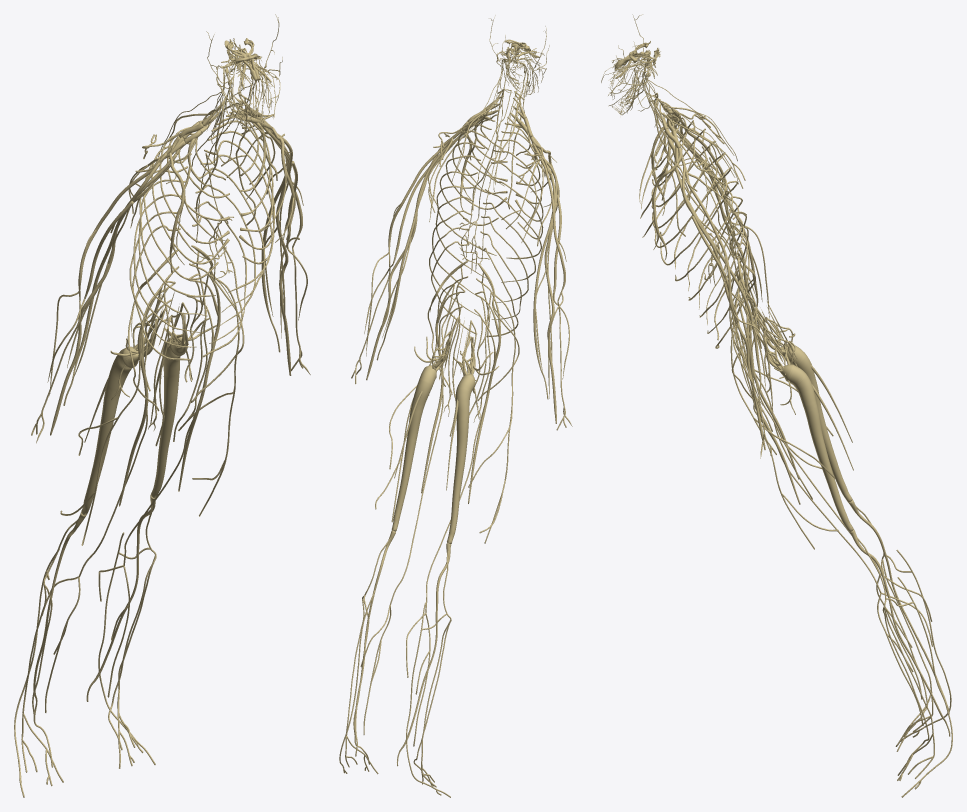
The model's file is atlas_nervous_mni152.peripheral.LOD1.glb.
The picture shows the model from 3 angles, left to right: view 1: azimuth 30°, elevation 25°; view 2: azimuth 150°, elevation 25°; view 3: azimuth 270°, elevation 25°; orthographic projection. The views are drawn at different scales.
Visible parts, largest first — view 1: ATLAS.NERVOUS.MNI152.PERIPHERAL.INTERCOSTAL_NERVES_RIGHT.R, ATLAS.NERVOUS.MNI152.PERIPHERAL.INTERCOSTAL_NERVES_LEFT.L, ATLAS.NERVOUS.MNI152.PERIPHERAL.SCIATIC_NERVE_RIGHT.R, ATLAS.NERVOUS.MNI152.PERIPHERAL.SCIATIC_NERVE_LEFT.L, ATLAS.NERVOUS.MNI152.PERIPHERAL.LUMBOSACRAL_PLEXUS_PROXIMAL_ (×2), ATLAS.NERVOUS.MNI152.PERIPHERAL.MEDIAL_AND_LATERAL_PECTORAL_ (×2), ATLAS.NERVOUS.MNI152.PERIPHERAL.LATERAL_FEMORAL_CUTANEOUS_NE (×2), ATLAS.NERVOUS.MNI152.PERIPHERAL.MEDIAN_NERVE_RIGHT.R, ATLAS.NERVOUS.MNI152.PERIPHERAL.FEMORAL_NERVE_LEFT.L, ATLAS.NERVOUS.MNI152.PERIPHERAL.SAPHENOUS_NERVE_LEFT.L, ATLAS.NERVOUS.MNI152.PERIPHERAL.FEMORAL_NERVE_RIGHT.R, ATLAS.NERVOUS.MNI152.PERIPHERAL.SAPHENOUS_NERVE_RIGHT.R (+13 smaller); view 2: ATLAS.NERVOUS.MNI152.PERIPHERAL.INTERCOSTAL_NERVES_LEFT.L, ATLAS.NERVOUS.MNI152.PERIPHERAL.INTERCOSTAL_NERVES_RIGHT.R, ATLAS.NERVOUS.MNI152.PERIPHERAL.SCIATIC_NERVE_RIGHT.R, ATLAS.NERVOUS.MNI152.PERIPHERAL.SCIATIC_NERVE_LEFT.L, ATLAS.NERVOUS.MNI152.PERIPHERAL.LUMBOSACRAL_PLEXUS_PROXIMAL_ (×2), ATLAS.NERVOUS.MNI152.PERIPHERAL.LATERAL_FEMORAL_CUTANEOUS_NE (×2), ATLAS.NERVOUS.MNI152.PERIPHERAL.SAPHENOUS_NERVE_LEFT.L, ATLAS.NERVOUS.MNI152.PERIPHERAL.FEMORAL_NERVE_RIGHT.R, ATLAS.NERVOUS.MNI152.PERIPHERAL.SAPHENOUS_NERVE_RIGHT.R, ATLAS.NERVOUS.MNI152.PERIPHERAL.MEDIAN_NERVE_RIGHT.R, ATLAS.NERVOUS.MNI152.PERIPHERAL.FEMORAL_NERVE_LEFT.L, ATLAS.NERVOUS.MNI152.PERIPHERAL.ULNAR_NERVE_RIGHT.R (+9 smaller); view 3: ATLAS.NERVOUS.MNI152.PERIPHERAL.SCIATIC_NERVE_LEFT.L, ATLAS.NERVOUS.MNI152.PERIPHERAL.INTERCOSTAL_NERVES_LEFT.L, ATLAS.NERVOUS.MNI152.PERIPHERAL.INTERCOSTAL_NERVES_RIGHT.R, ATLAS.NERVOUS.MNI152.PERIPHERAL.LUMBOSACRAL_PLEXUS_PROXIMAL_ (×2), ATLAS.NERVOUS.MNI152.PERIPHERAL.SCIATIC_NERVE_RIGHT.R, ATLAS.NERVOUS.MNI152.PERIPHERAL.SAPHENOUS_NERVE_RIGHT.R, ATLAS.NERVOUS.MNI152.PERIPHERAL.LATERAL_FEMORAL_CUTANEOUS_NE, ATLAS.NERVOUS.MNI152.PERIPHERAL.SAPHENOUS_NERVE_LEFT.L, ATLAS.NERVOUS.MNI152.PERIPHERAL.MEDIAN_NERVE_LEFT.L, ATLAS.NERVOUS.MNI152.PERIPHERAL.ULNAR_NERVE_LEFT.L, ATLAS.NERVOUS.MNI152.PERIPHERAL.TIBIAL_NERVE_LEFT.L, ATLAS.NERVOUS.MNI152.PERIPHERAL.FEMORAL_NERVE_LEFT.L (+1 smaller).
Boxes of the visible parts, <box> form: ATLAS.NERVOUS.MNI152.PERIPHERAL.INTERCOSTAL_NERVES_RIGHT.R: <box>129,123,229,360</box>; ATLAS.NERVOUS.MNI152.PERIPHERAL.INTERCOSTAL_NERVES_LEFT.L: <box>192,114,274,357</box>; ATLAS.NERVOUS.MNI152.PERIPHERAL.SCIATIC_NERVE_RIGHT.R: <box>81,320,156,515</box>; ATLAS.NERVOUS.MNI152.PERIPHERAL.SCIATIC_NERVE_LEFT.L: <box>151,314,188,498</box>; ATLAS.NERVOUS.MNI152.PERIPHERAL.LUMBOSACRAL_PLEXUS_PROXIMAL_ (×2): <box>111,245,244,411</box>; ATLAS.NERVOUS.MNI152.PERIPHERAL.MEDIAL_AND_LATERAL_PECTORAL_ (×2): <box>166,122,295,272</box>; ATLAS.NERVOUS.MNI152.PERIPHERAL.LATERAL_FEMORAL_CUTANEOUS_NE (×2): <box>60,274,239,545</box>; ATLAS.NERVOUS.MNI152.PERIPHERAL.MEDIAN_NERVE_RIGHT.R: <box>50,153,166,435</box>; ATLAS.NERVOUS.MNI152.PERIPHERAL.FEMORAL_NERVE_LEFT.L: <box>178,263,220,491</box>; ATLAS.NERVOUS.MNI152.PERIPHERAL.SAPHENOUS_NERVE_LEFT.L: <box>98,395,201,697</box>; ATLAS.NERVOUS.MNI152.PERIPHERAL.FEMORAL_NERVE_RIGHT.R: <box>119,266,179,506</box>; ATLAS.NERVOUS.MNI152.PERIPHERAL.SAPHENOUS_NERVE_RIGHT.R: <box>42,410,147,712</box>; ATLAS.NERVOUS.MNI152.PERIPHERAL.INTERCOSTAL_NERVES_LEFT.L: <box>429,119,507,334</box>; ATLAS.NERVOUS.MNI152.PERIPHERAL.INTERCOSTAL_NERVES_RIGHT.R: <box>478,123,543,336</box>; ATLAS.NERVOUS.MNI152.PERIPHERAL.SCIATIC_NERVE_RIGHT.R: <box>447,336,475,544</box>; ATLAS.NERVOUS.MNI152.PERIPHERAL.SCIATIC_NERVE_LEFT.L: <box>391,334,449,531</box>; ATLAS.NERVOUS.MNI152.PERIPHERAL.LUMBOSACRAL_PLEXUS_PROXIMAL_ (×2): <box>414,261,519,418</box>; ATLAS.NERVOUS.MNI152.PERIPHERAL.LATERAL_FEMORAL_CUTANEOUS_NE (×2): <box>375,283,515,543</box>; ATLAS.NERVOUS.MNI152.PERIPHERAL.SAPHENOUS_NERVE_LEFT.L: <box>360,390,443,734</box>; ATLAS.NERVOUS.MNI152.PERIPHERAL.FEMORAL_NERVE_RIGHT.R: <box>468,278,501,503</box>; ATLAS.NERVOUS.MNI152.PERIPHERAL.SAPHENOUS_NERVE_RIGHT.R: <box>406,407,483,746</box>; ATLAS.NERVOUS.MNI152.PERIPHERAL.MEDIAN_NERVE_RIGHT.R: <box>539,152,557,423</box>; ATLAS.NERVOUS.MNI152.PERIPHERAL.FEMORAL_NERVE_LEFT.L: <box>421,276,468,493</box>; ATLAS.NERVOUS.MNI152.PERIPHERAL.ULNAR_NERVE_RIGHT.R: <box>533,148,555,399</box>; ATLAS.NERVOUS.MNI152.PERIPHERAL.SCIATIC_NERVE_LEFT.L: <box>764,330,853,532</box>; ATLAS.NERVOUS.MNI152.PERIPHERAL.INTERCOSTAL_NERVES_LEFT.L: <box>651,126,749,348</box>; ATLAS.NERVOUS.MNI152.PERIPHERAL.INTERCOSTAL_NERVES_RIGHT.R: <box>651,117,748,340</box>; ATLAS.NERVOUS.MNI152.PERIPHERAL.LUMBOSACRAL_PLEXUS_PROXIMAL_ (×2): <box>730,252,797,414</box>; ATLAS.NERVOUS.MNI152.PERIPHERAL.SCIATIC_NERVE_RIGHT.R: <box>763,320,852,502</box>; ATLAS.NERVOUS.MNI152.PERIPHERAL.SAPHENOUS_NERVE_RIGHT.R: <box>755,382,932,699</box>; ATLAS.NERVOUS.MNI152.PERIPHERAL.LATERAL_FEMORAL_CUTANEOUS_NE: <box>730,293,838,549</box>; ATLAS.NERVOUS.MNI152.PERIPHERAL.SAPHENOUS_NERVE_LEFT.L: <box>760,417,932,725</box>; ATLAS.NERVOUS.MNI152.PERIPHERAL.MEDIAN_NERVE_LEFT.L: <box>682,165,765,449</box>; ATLAS.NERVOUS.MNI152.PERIPHERAL.ULNAR_NERVE_LEFT.L: <box>674,162,762,420</box>; ATLAS.NERVOUS.MNI152.PERIPHERAL.TIBIAL_NERVE_LEFT.L: <box>849,529,950,736</box>; ATLAS.NERVOUS.MNI152.PERIPHERAL.FEMORAL_NERVE_LEFT.L: <box>737,280,800,504</box>.
Size of the model in its own units: 0.5891 by 1.77 by 0.7595.
